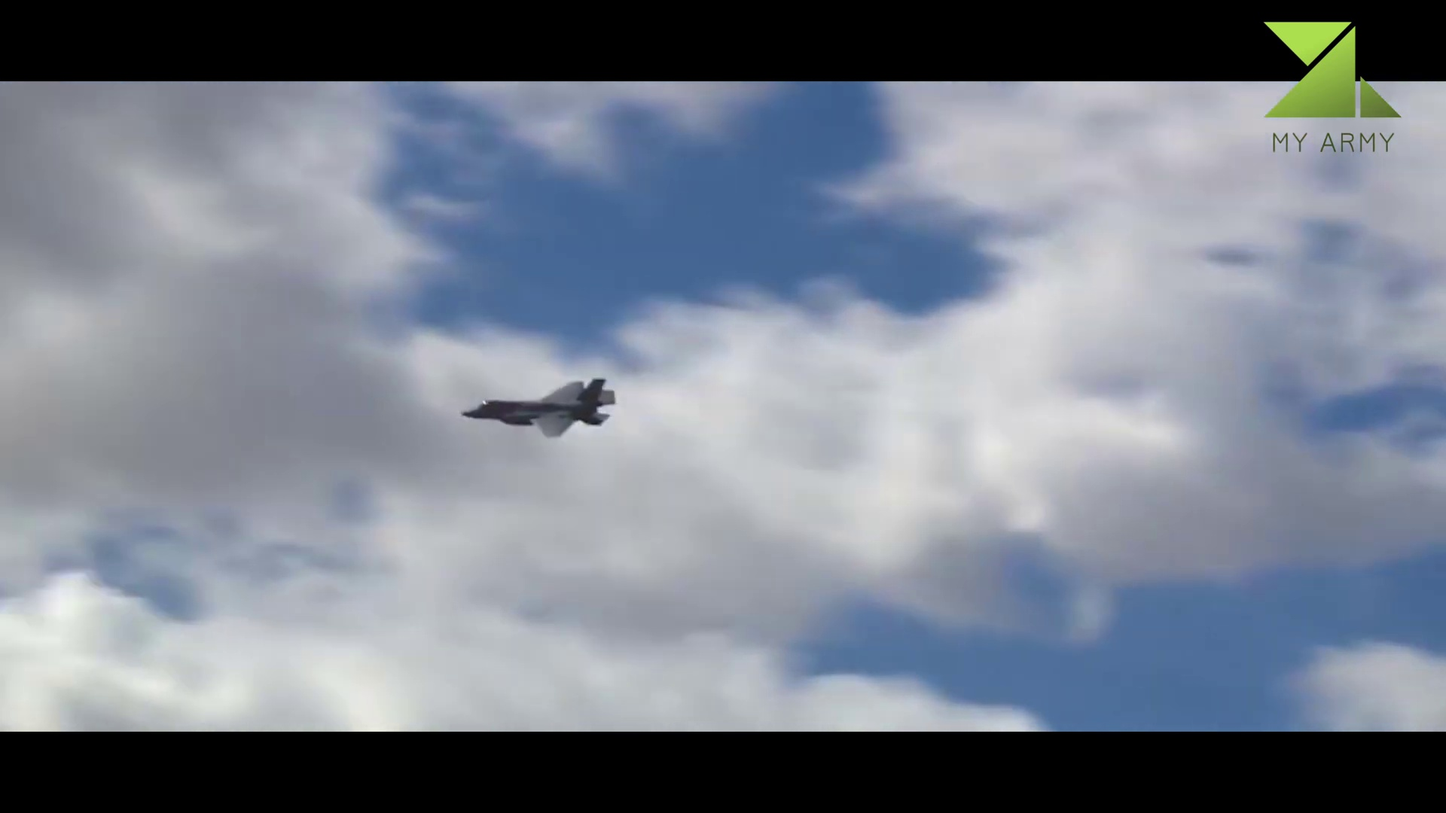F35: (458, 371, 623, 443)
